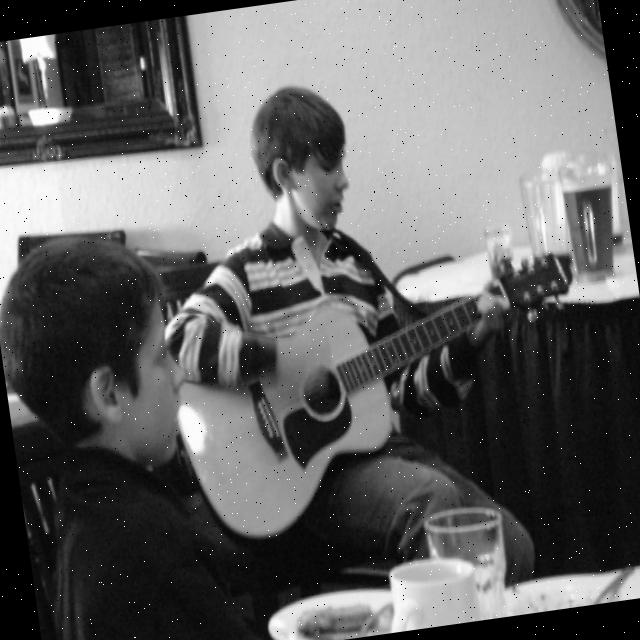guitar: (162, 246, 605, 547)
